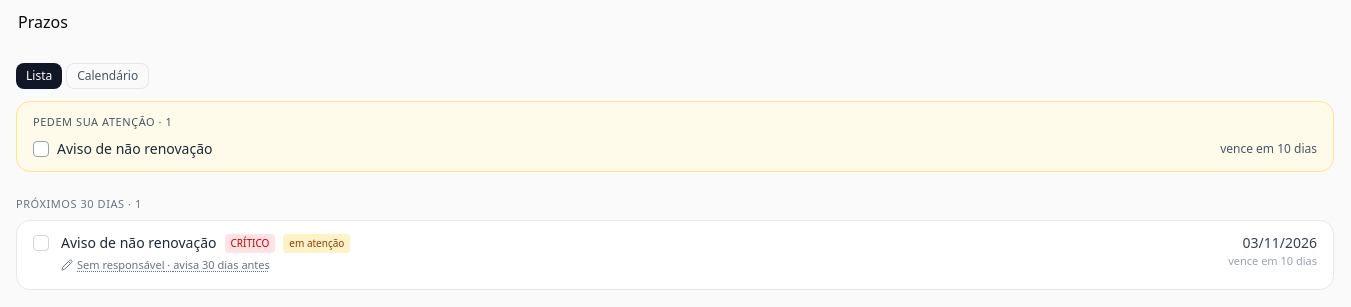
Scenario: Radar page › drops a deadline from the list and the attention block when ticked off
Expected: the element "Pedem sua atenção" is shown, [16,101,1334,172]
Click the button titled "Marcar como feito" in the row of "crítico". click: (41, 243)
box: [33,235,49,251]
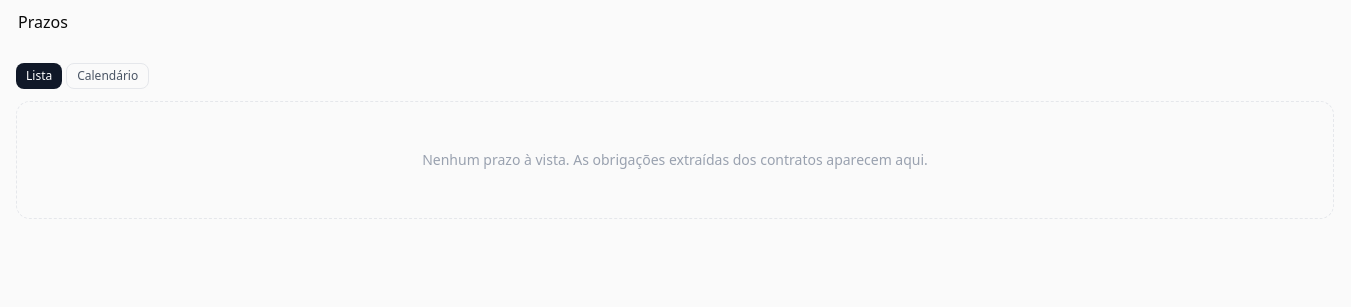
Expected: the heading "Pedem sua atenção" is gone
